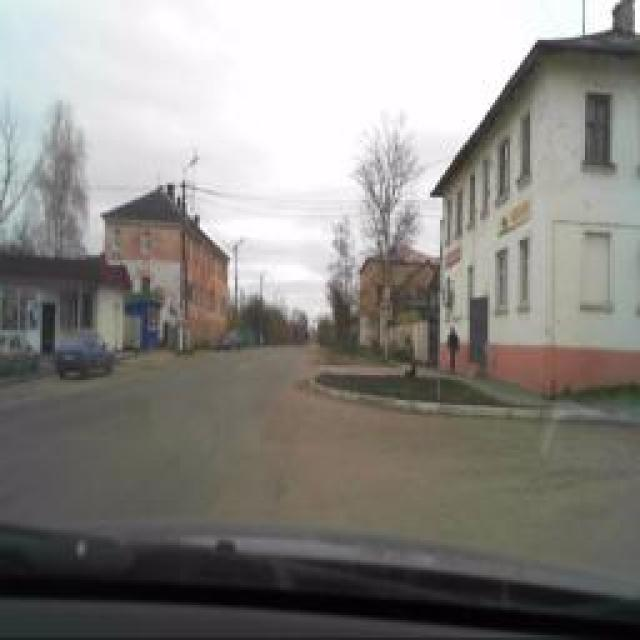sign: (382, 284, 392, 301)
